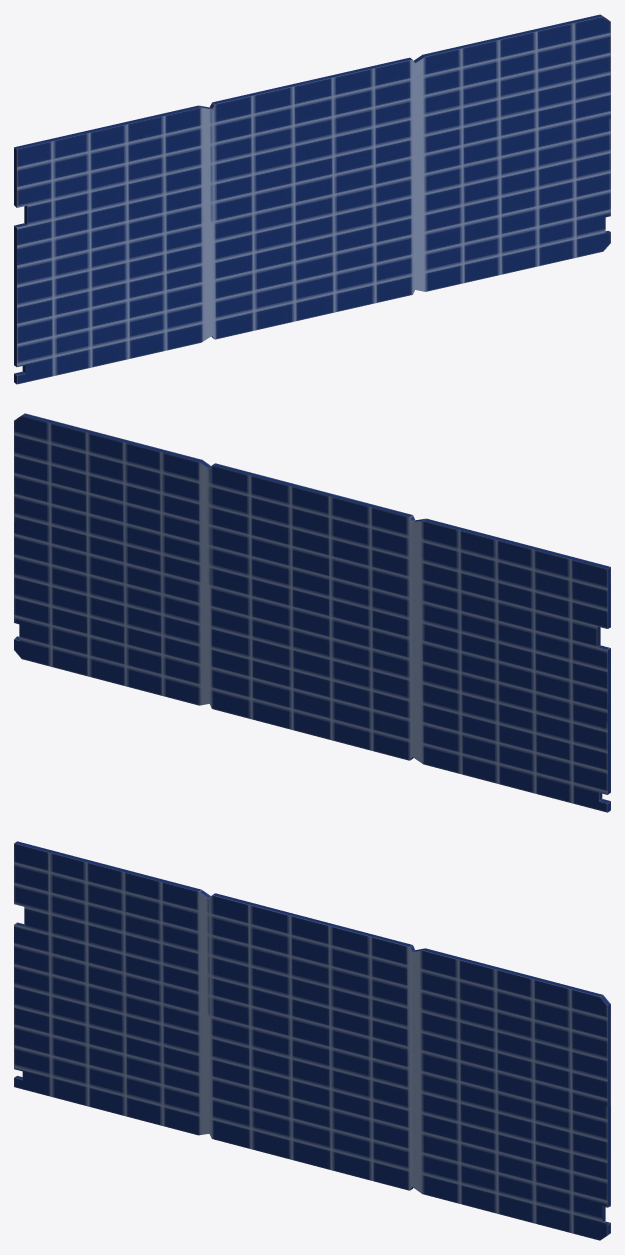
The model's file is panel_ala1.obj.
The picture shows the model from 3 angles, top to bottom: view 1: azimuth 30°, elevation 25°; view 2: azimuth 150°, elevation 25°; view 3: azimuth 330°, elevation 25°; orthographic projection. The views are drawn at different scales.
Visible parts, largest first — view 1: ala1_Dragon.001; view 2: ala1_Dragon.001; view 3: ala1_Dragon.001.
Boxes of the visible parts, x1=… form: ala1_Dragon.001: x1=14, y1=14, x2=610, y2=384; ala1_Dragon.001: x1=14, y1=413, x2=610, y2=812; ala1_Dragon.001: x1=14, y1=841, x2=610, y2=1240.
Size of the model in its own units: 4.55 by 1.75 by 0.1846.
